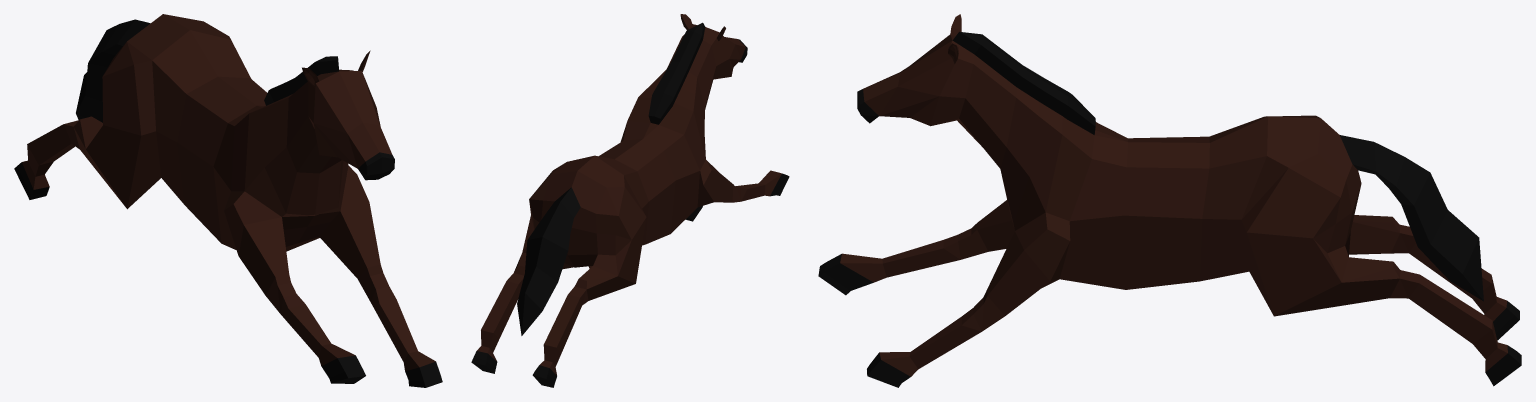
Rendered from Horse_000014.obj.
3 renders of one model, left to right at view 1: azimuth 30°, elevation 25°; view 2: azimuth 150°, elevation 25°; view 3: azimuth 270°, elevation 25°, orthographic. The views are drawn at different scales.
Parts seen in each view (by area): view 1: Horse_Cylinder; view 2: Horse_Cylinder; view 3: Horse_Cylinder.
Part boxes in pixels (x1,y1,x2,y2): Horse_Cylinder: [14, 14, 442, 387]; Horse_Cylinder: [471, 14, 789, 387]; Horse_Cylinder: [818, 14, 1521, 387].
Size of the model in its own units: 2.56 by 5.68 by 10.93.
